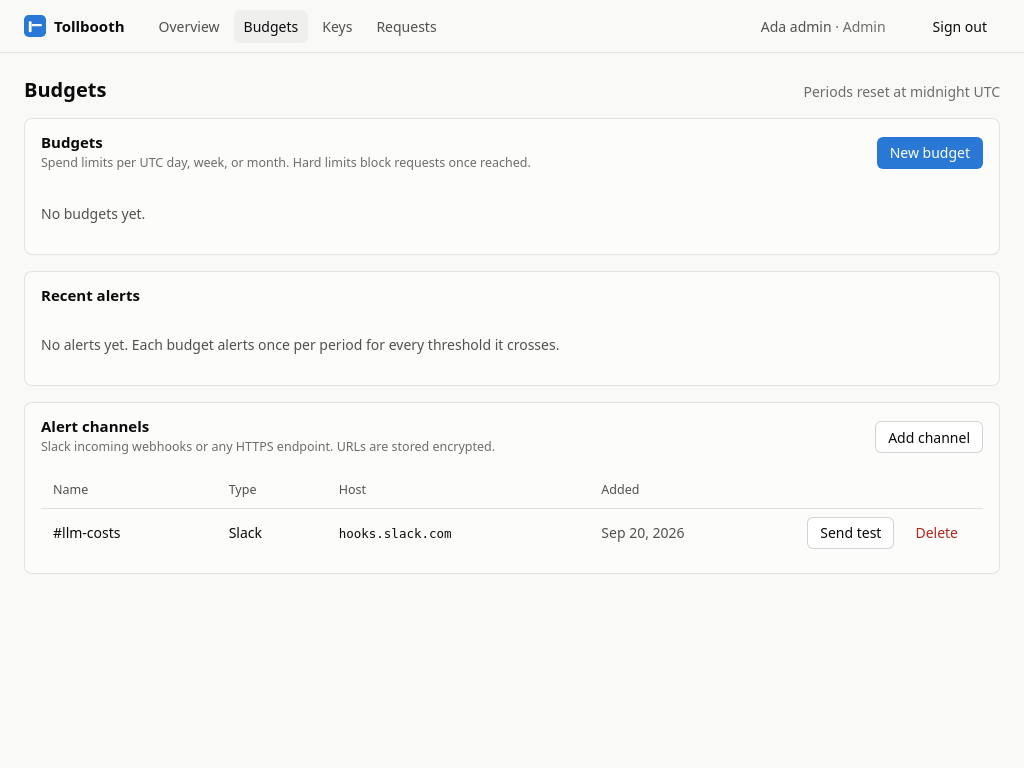
Test: budgets page › sends a test and reports the result
Click the button with aria-label "Send test to #llm-costs".
click(851, 532)  # box [807, 516, 894, 548]
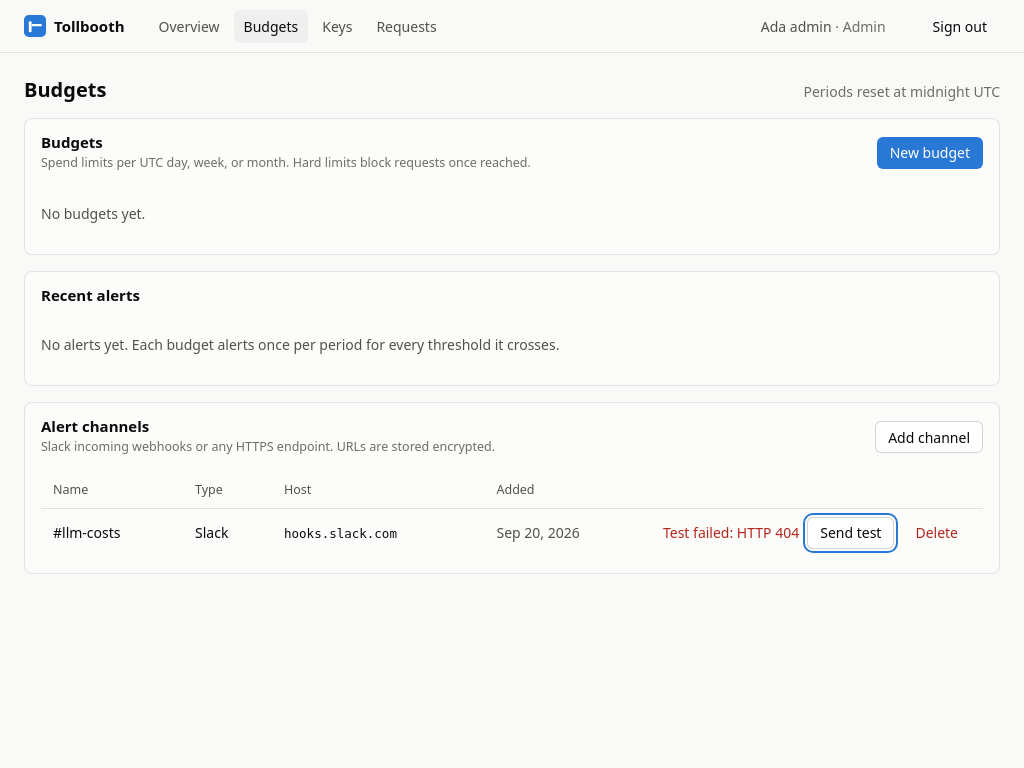
Result: the text "Test failed: HTTP 404" is shown at [663, 522, 799, 543]
